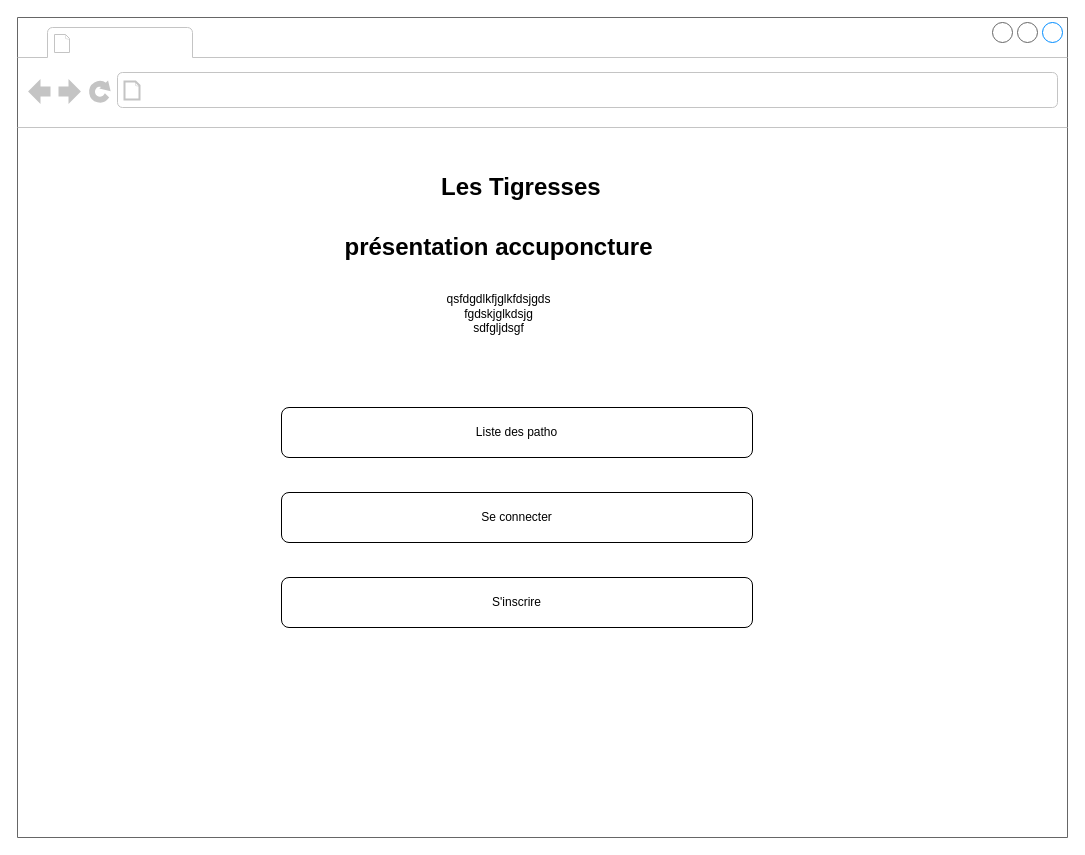
Some shapes in this 1085 by 855 pixel diagram are drawn without their labels. Each missing label, with the centre of its shape:
"https://www.lestigresses.com" goes at (x=272, y=90).
"Page 1" goes at (x=132, y=42).
